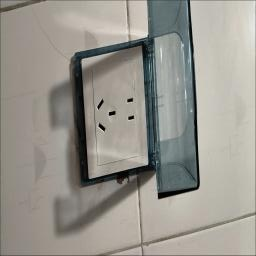outlet: (72, 28, 154, 188)
